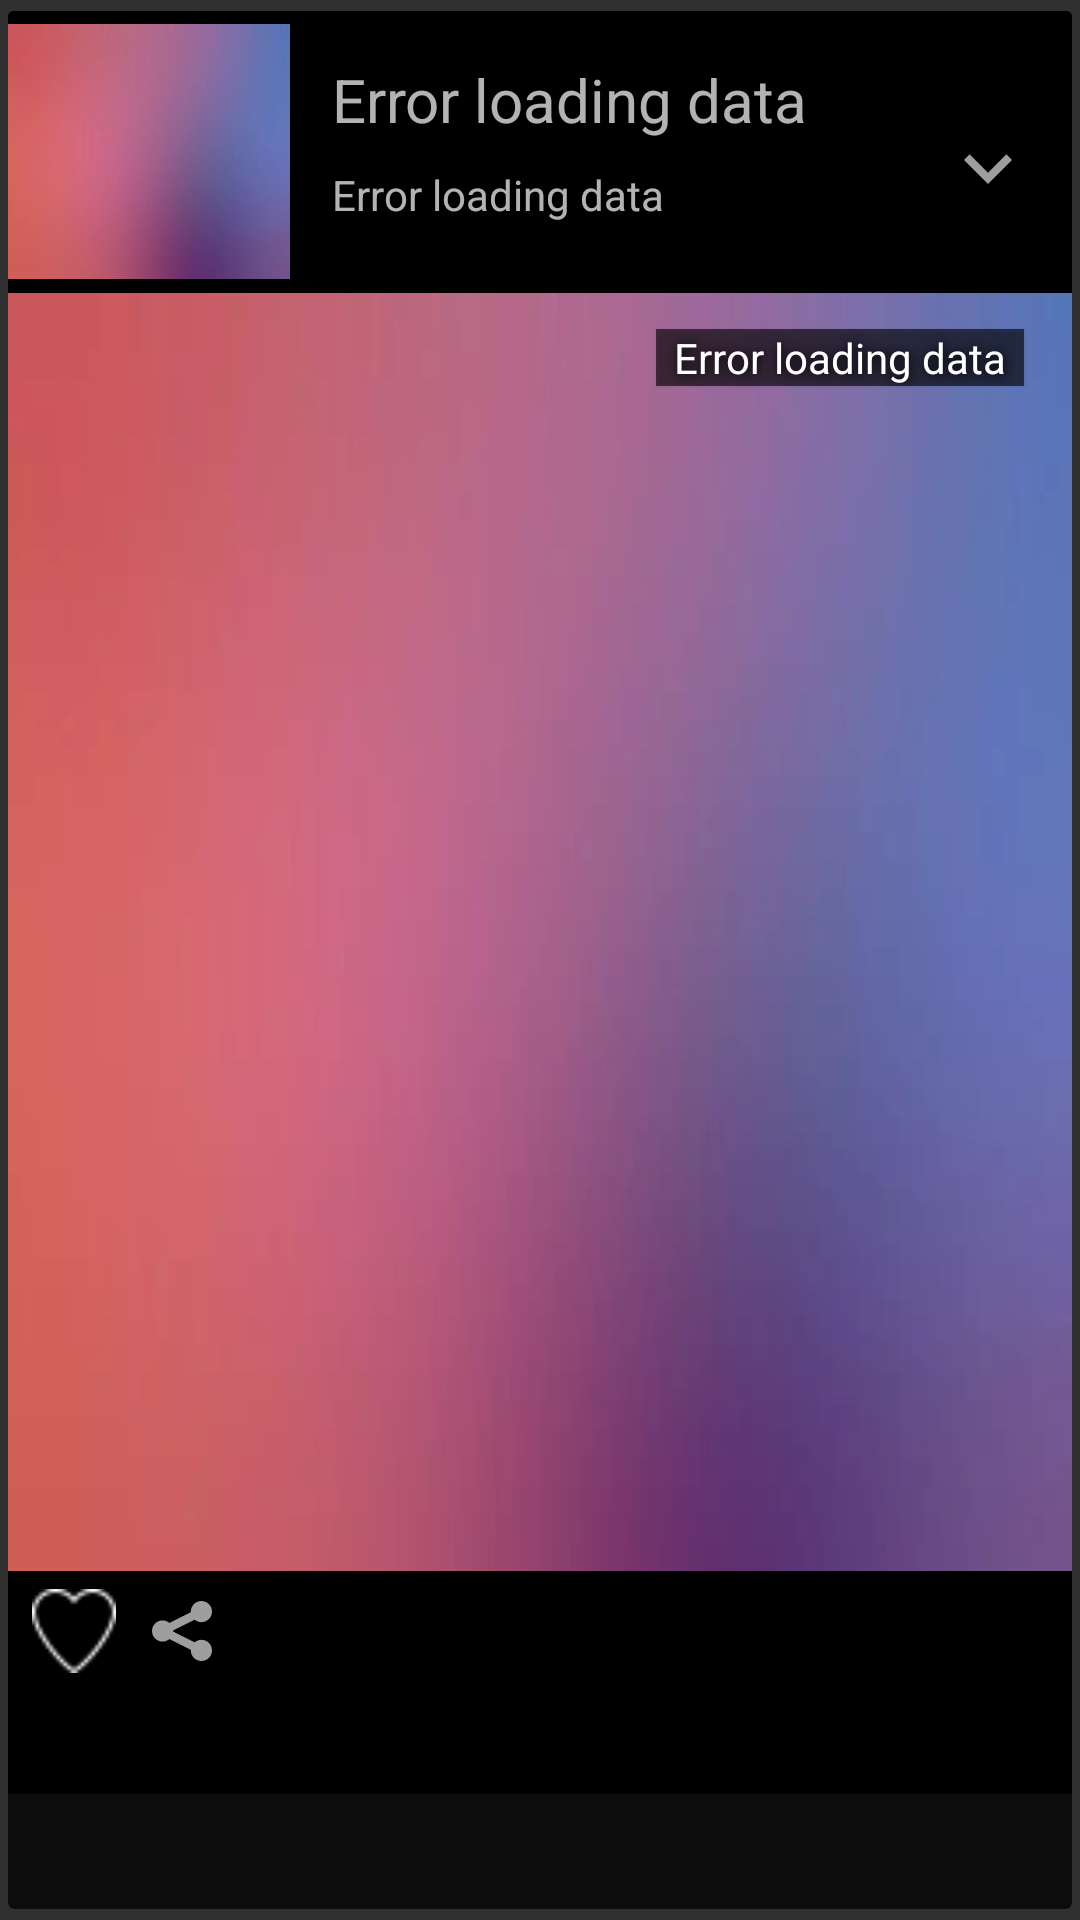

Screen size 1080 x 1920. Icon name, then its center in pixels as [x,y]:
Is not favorite: [74,1631]
More: [988,169]
